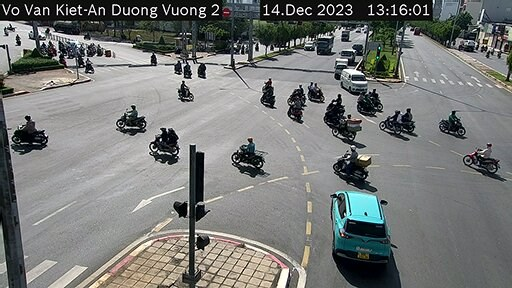car: (325, 191, 403, 257), (338, 66, 372, 96), (342, 48, 359, 63), (301, 37, 316, 53)
motorbike: (144, 118, 183, 164), (12, 115, 50, 151), (333, 106, 366, 139), (110, 105, 147, 134), (472, 142, 504, 173), (396, 104, 421, 141), (233, 136, 261, 169), (445, 104, 467, 140), (354, 94, 378, 126), (342, 148, 368, 175), (258, 78, 276, 116), (384, 112, 405, 144), (368, 87, 388, 120), (175, 81, 193, 109), (321, 96, 344, 117), (303, 86, 327, 103), (289, 98, 306, 121)
truck: (315, 33, 333, 61), (334, 57, 354, 75), (341, 28, 352, 42)
